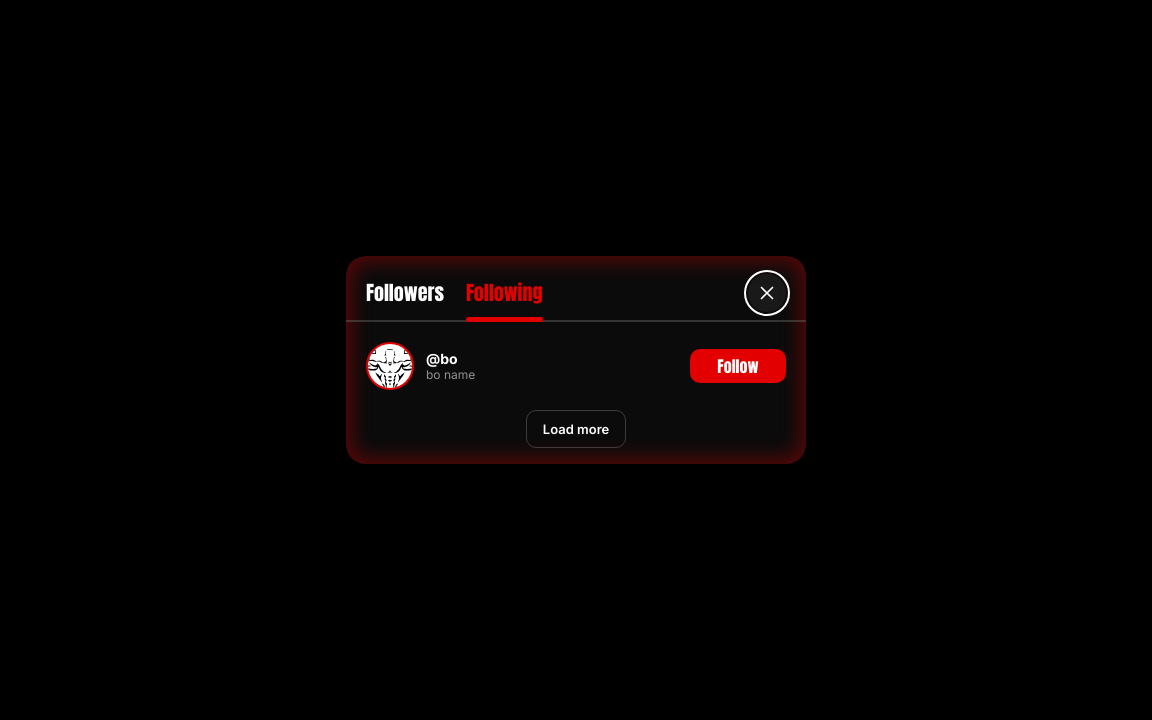
FollowList › loads more people a page at a time
This screenshot has width=1152, height=720.
expect the text "@bo" is shown: met, box [426,350,458,367]
Click the button "Load more".
click(576, 429)  # box [526,410,626,448]
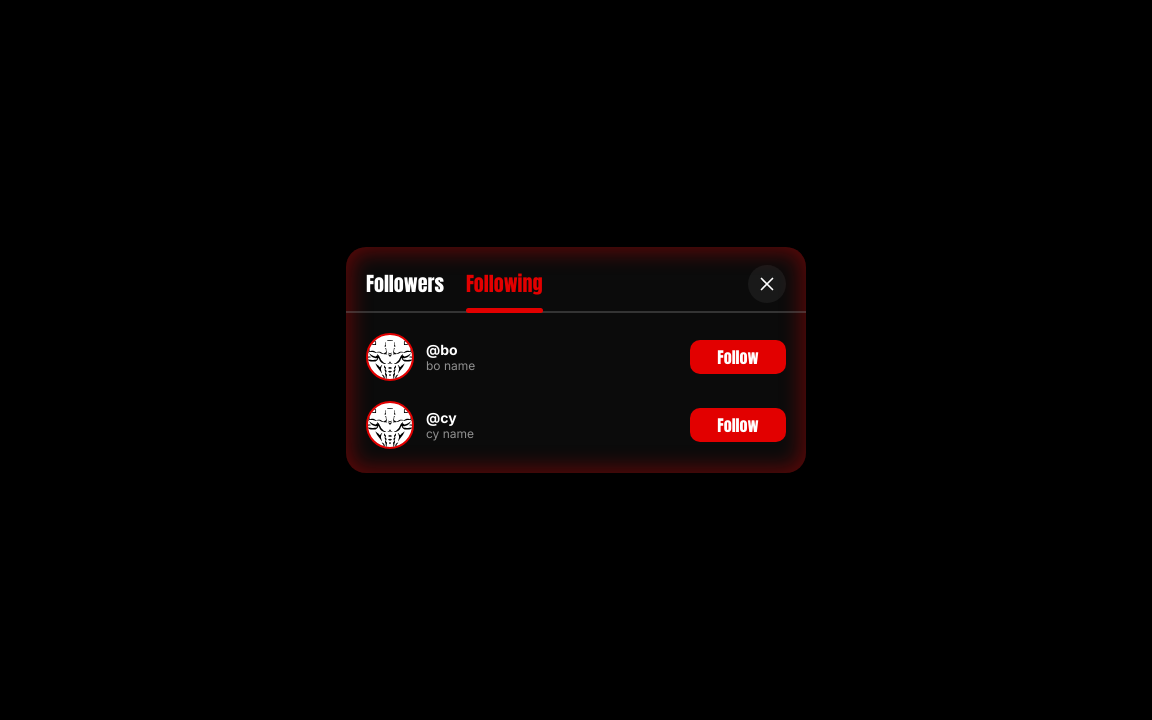
expect the text "@cy" is shown: met, box [426,409,457,426]
expect the button "Load more" is gone: met
